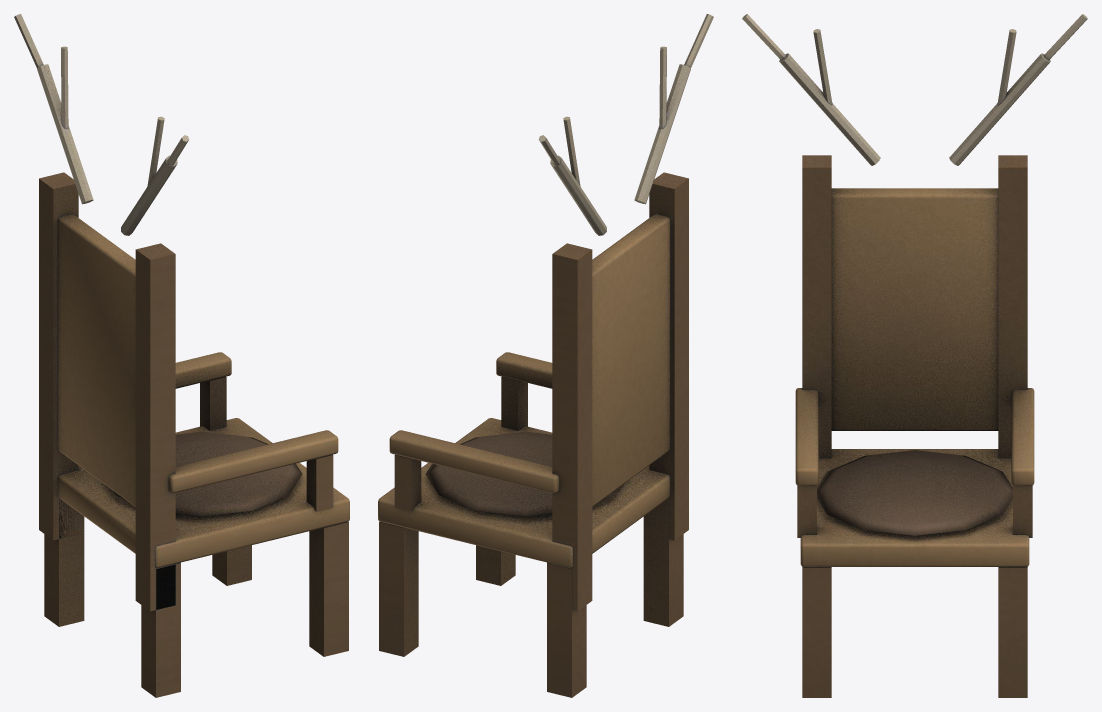
The model's file is throne.glb.
3 renders of one model, left to right at view 1: azimuth 30°, elevation 25°; view 2: azimuth 150°, elevation 25°; view 3: azimuth 270°, elevation 25°, orthographic.
Parts seen in each view (by area): view 1: antler-1; view 2: antler-1; view 3: antler-1.
Part boxes in pixels (x1,y1,x2,y2): antler-1: [14, 14, 349, 697]; antler-1: [378, 14, 713, 697]; antler-1: [742, 14, 1087, 697].
Size of the model in its own units: 0.715 by 1.99 by 1.06.
Materials: 1 (1 with a texture image).
